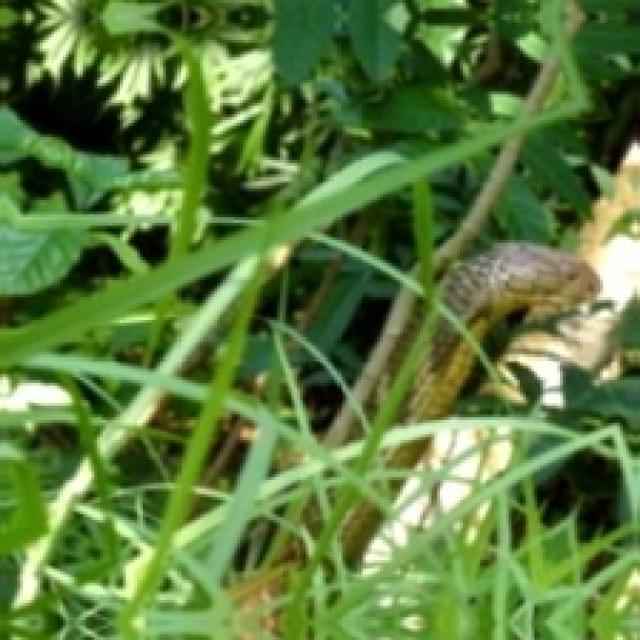king cobra: (234, 243, 606, 637)
